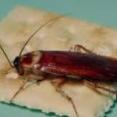cockroach: (10, 48, 116, 86)
